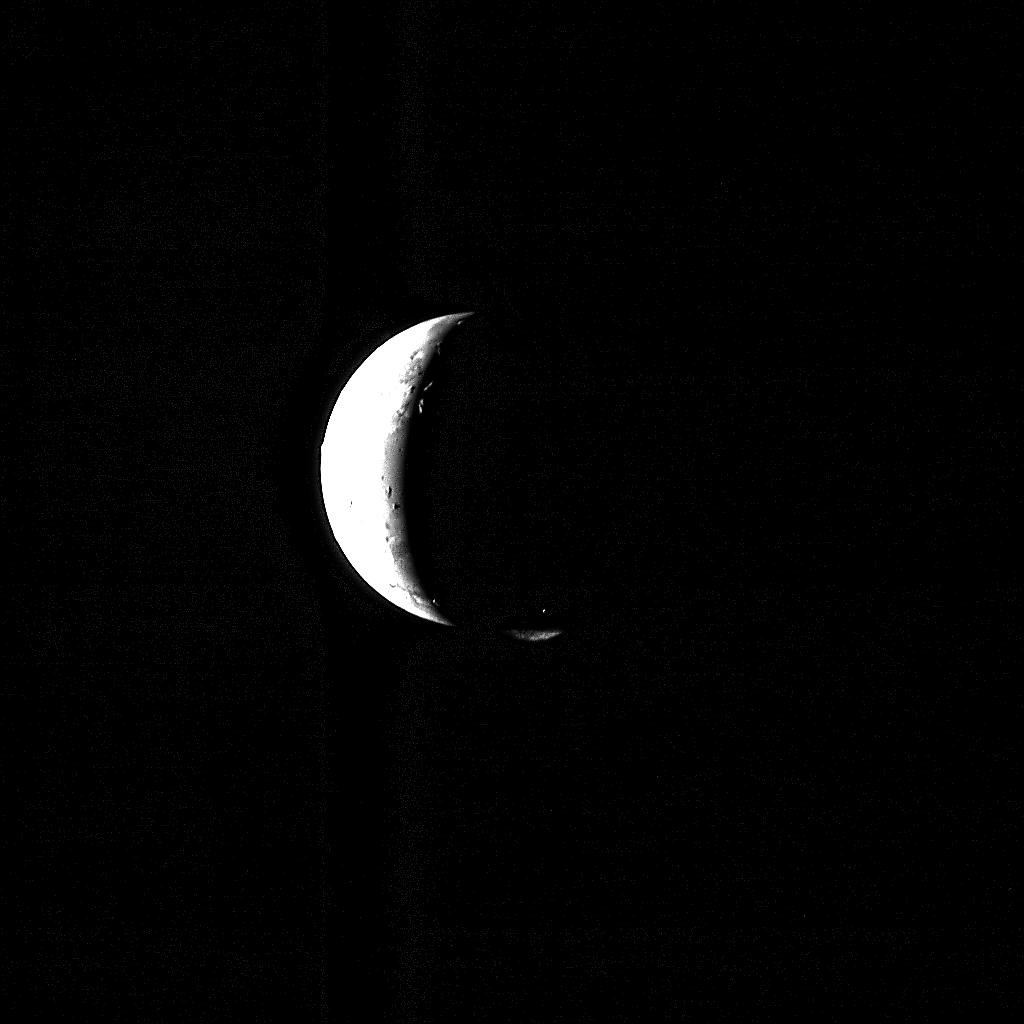plumes: (508, 631, 558, 641)
